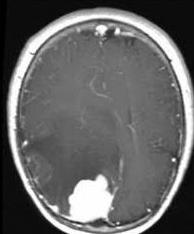Tumour-Meningioma: (59, 174, 128, 224)
